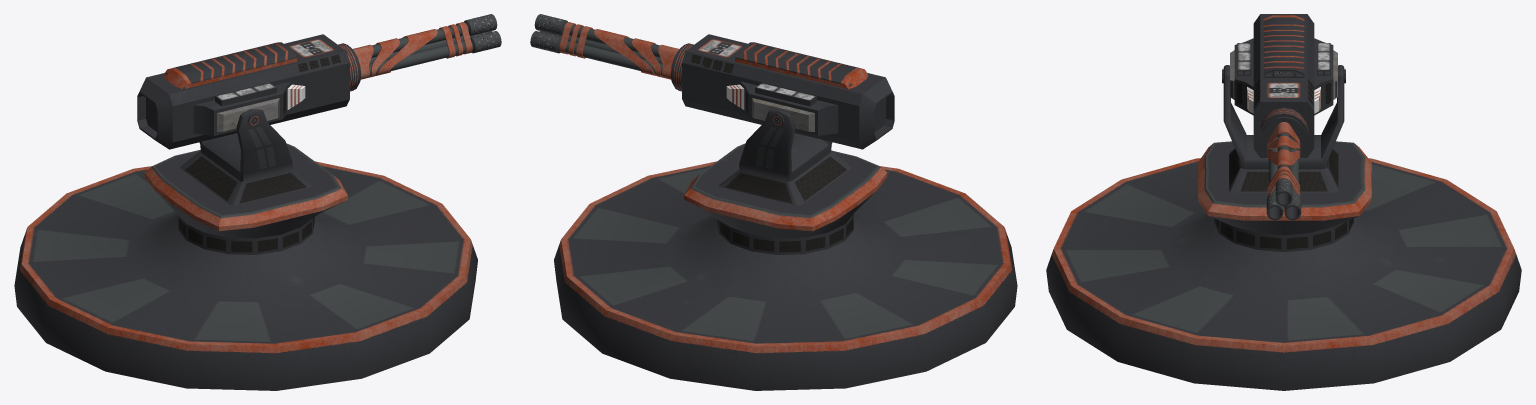
File: MachineGun_1.fbx
The picture shows the model from 3 angles, left to right: view 1: azimuth 30°, elevation 25°; view 2: azimuth 150°, elevation 25°; view 3: azimuth 270°, elevation 25°; orthographic projection.
Parts seen in each view (by area): view 1: Platforrm_lp, Turret_lp, Axsis_lp; view 2: Platforrm_lp, Turret_lp, Axsis_lp; view 3: Platforrm_lp, Axsis_lp, Turret_lp.
Boxes of the visible parts, x1,y1,x2,y2 form: Platforrm_lp: [14, 161, 477, 390]; Turret_lp: [137, 14, 501, 149]; Axsis_lp: [144, 109, 347, 254]; Platforrm_lp: [554, 161, 1017, 390]; Turret_lp: [530, 14, 894, 149]; Axsis_lp: [684, 109, 887, 254]; Platforrm_lp: [1046, 158, 1521, 390]; Axsis_lp: [1198, 65, 1371, 251]; Turret_lp: [1222, 14, 1345, 220].
Size of the model in its own units: 200 by 112 by 222.
Materials: 1 (1 with a texture image).
